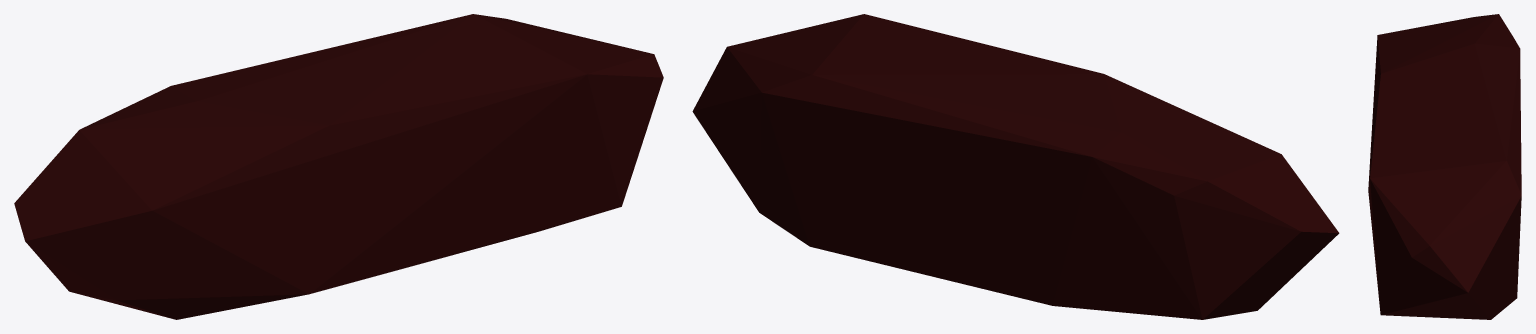
Rendered from UCX_Pillar_D.fbx.
3 renders of one model, left to right at view 1: azimuth 30°, elevation 25°; view 2: azimuth 150°, elevation 25°; view 3: azimuth 270°, elevation 25°, orthographic. The views are drawn at different scales.
Parts seen in each view (by area): view 1: UCX_Pillar_D; view 2: UCX_Pillar_D; view 3: UCX_Pillar_D.
Part boxes in pixels (x1,y1,x2,y2): UCX_Pillar_D: (14,14,663,319); UCX_Pillar_D: (692,14,1339,319); UCX_Pillar_D: (1368,14,1521,319).
Size of the model in its own units: 361 by 97.49 by 91.76.
